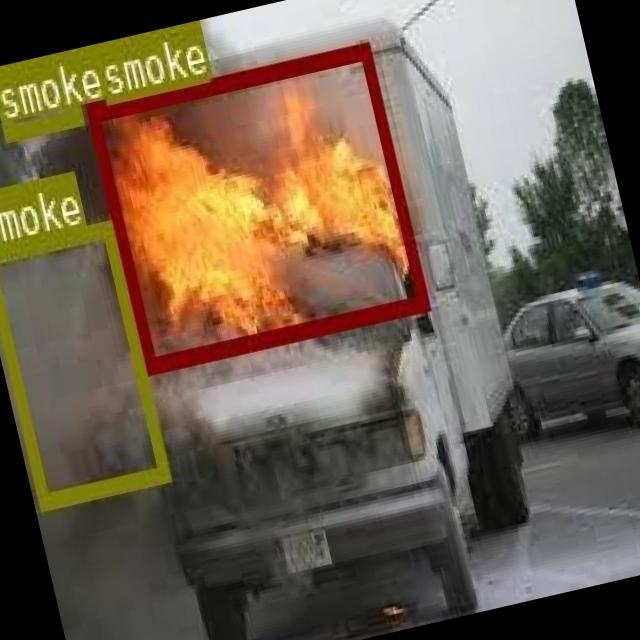fire: (85, 39, 428, 372)
smoke: (0, 219, 167, 506), (90, 21, 205, 99), (0, 50, 79, 136)
